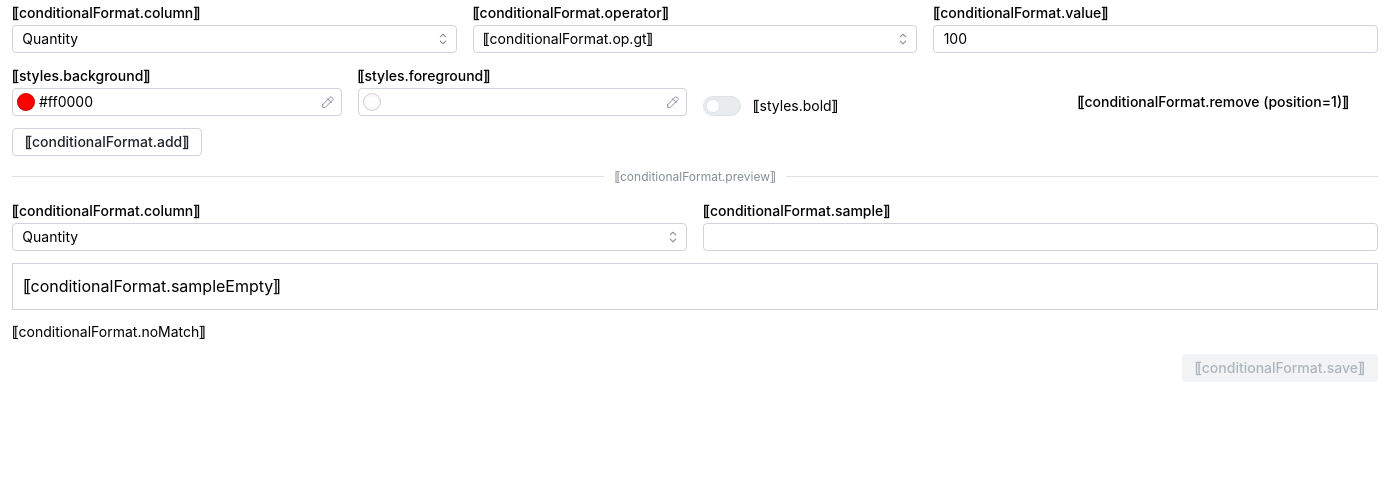
Test: ConditionalFormatPanel › «Відкинути мої зміни» після конфлікту показує чужі правила
Replace the text in the field labelled "⟦conditionalFormat.value⟧" with "200" at (1156, 39), box [933,25,1378,53]
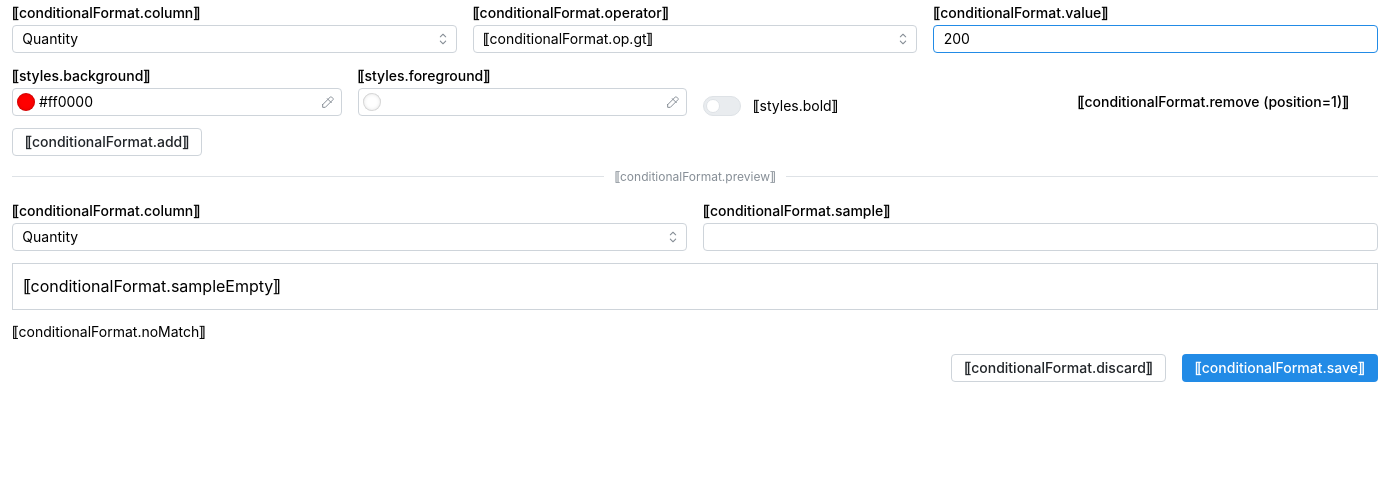
Click the button "⟦conditionalFormat.save⟧" at (1280, 368), box [1182,354,1378,382]
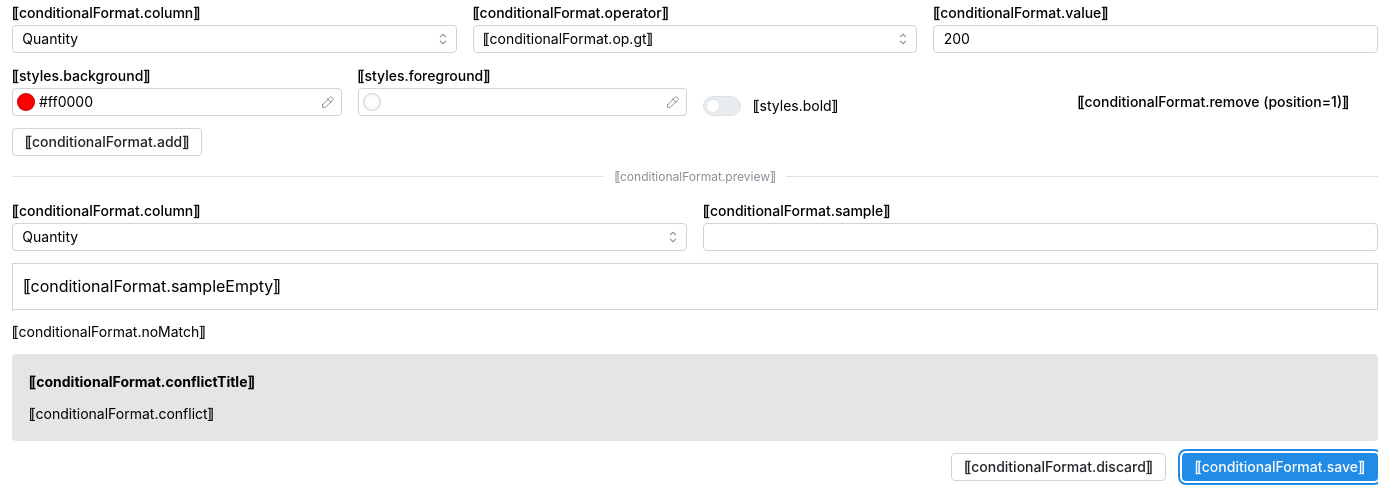
Check: the message "⟦conditionalFormat.conflictTitle⟧ ⟦conditionalFormat.conflict⟧" is shown, box [12,354,1378,442]
Click the button "⟦conditionalFormat.discard⟧" at (1058, 468), box [951,454,1166,482]
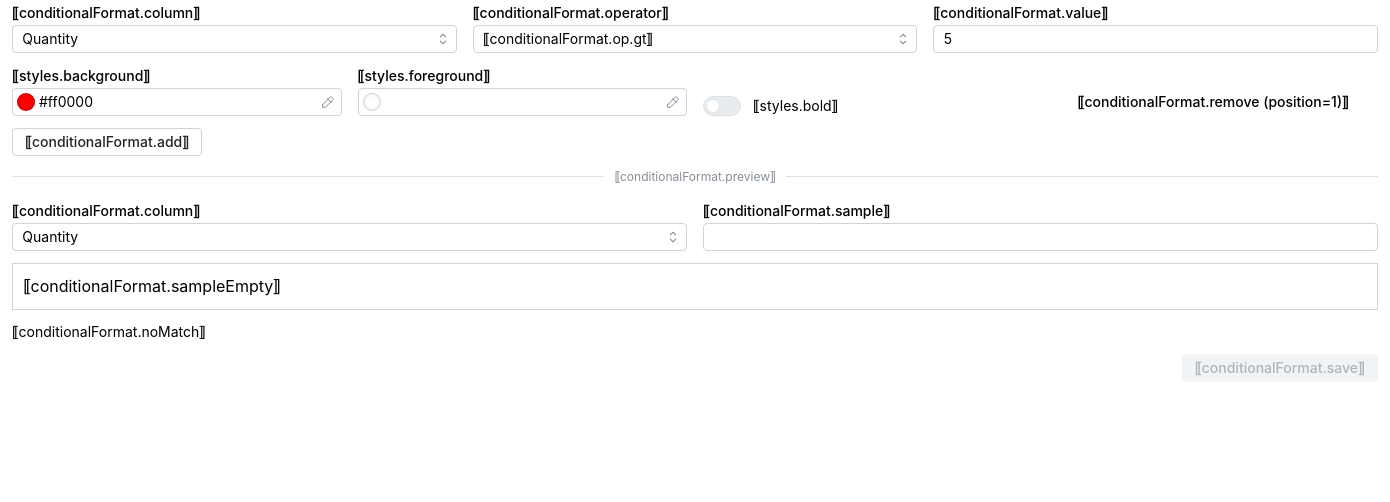
Check: the field labelled "⟦conditionalFormat.value⟧" holds "5", box [933,25,1378,53]
Check: the message with test id "conditional-format-conflict" is gone
